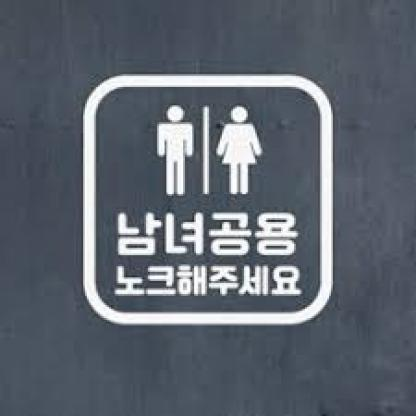toilet: (150, 98, 268, 202)
